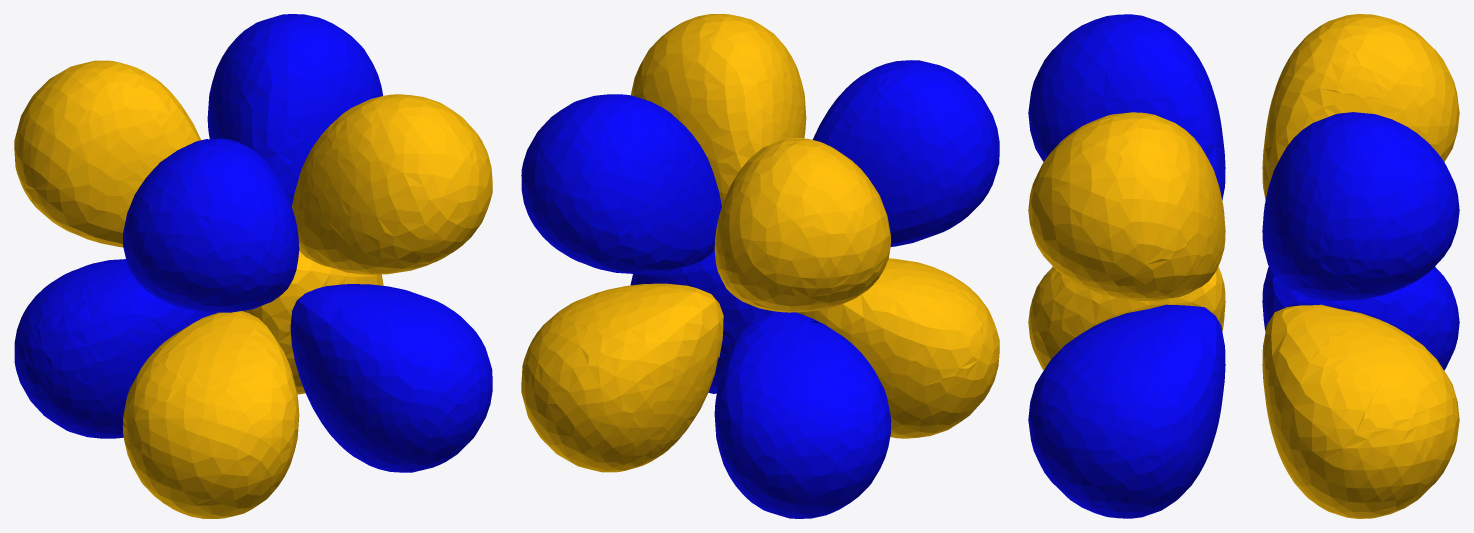
3 views of the same model, side by side, from view 1: azimuth 30°, elevation 25°; view 2: azimuth 150°, elevation 25°; view 3: azimuth 270°, elevation 25° (orthographic). The views are drawn at different scales.
Size of the model in its own units: 18.63 by 18.63 by 18.63.
